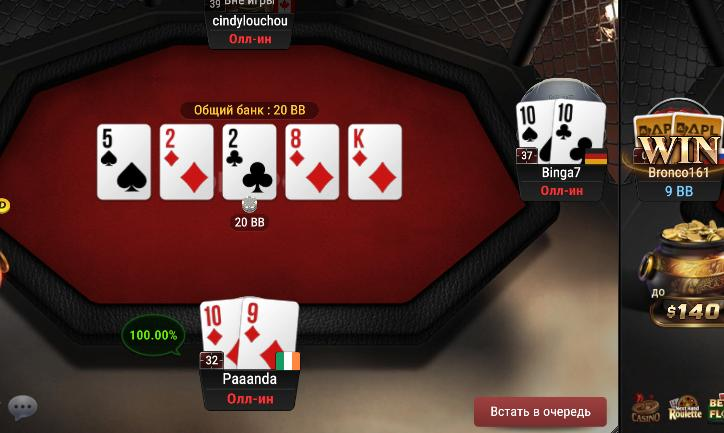10c: (553, 101, 606, 164)
10d: (201, 302, 241, 369)
10s: (516, 103, 552, 166)
2c: (222, 124, 275, 201)
2d: (161, 125, 212, 199)
5s: (98, 124, 149, 199)
8d: (286, 124, 338, 199)
9d: (241, 298, 296, 370)
Kd: (349, 125, 401, 199)
